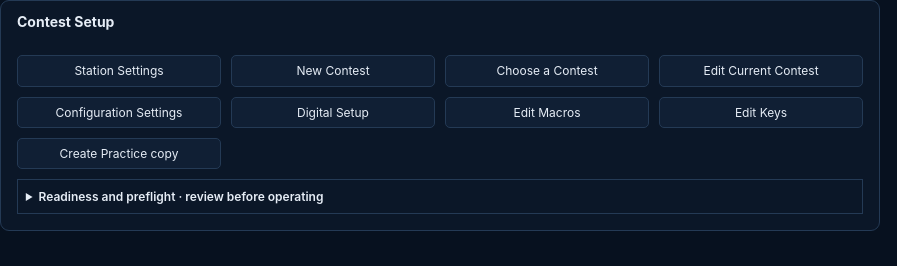
Test: offers explicit Practice creation and keeps it separate from real-session create/save
The image size is (897, 266).
Step 1. Click the button "Create Practice copy" → (119, 154), box x1=17 y1=138 x2=221 y2=170
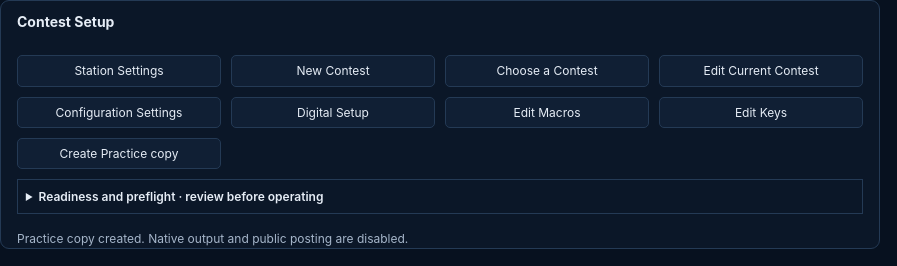
expect the text "Practice copy created. Native output and public posting are disabled." is shown: met, box x1=17 y1=232 x2=408 y2=246
